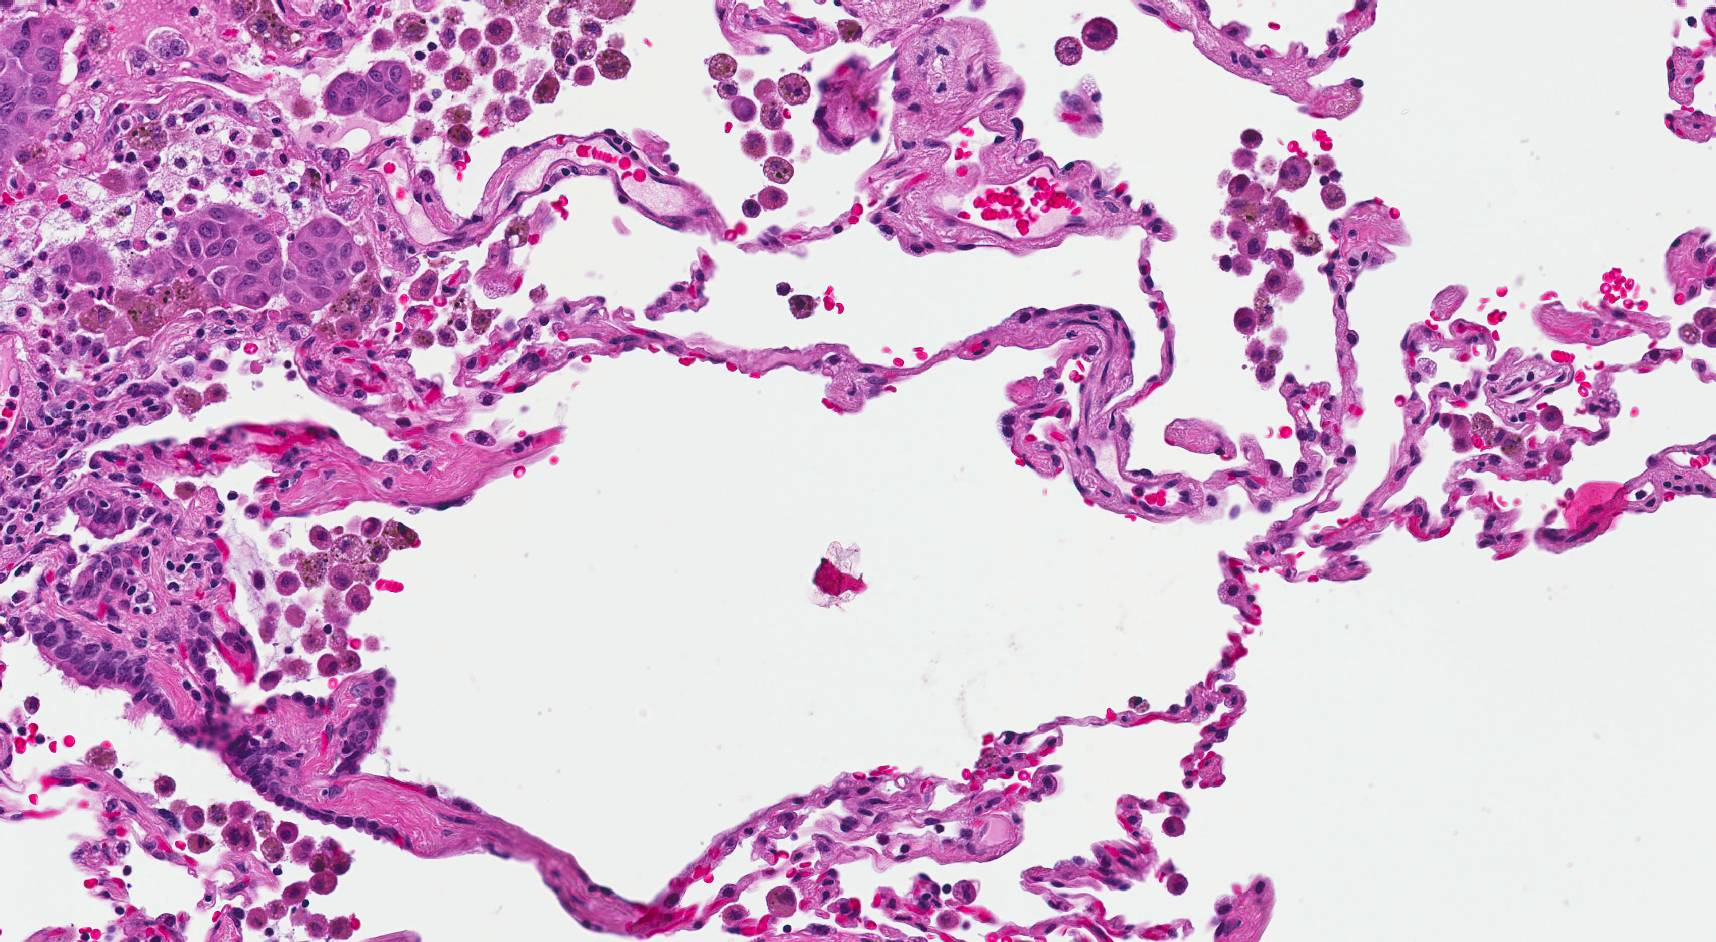stas: (132, 204, 283, 312), (280, 215, 363, 310), (320, 59, 413, 126)
